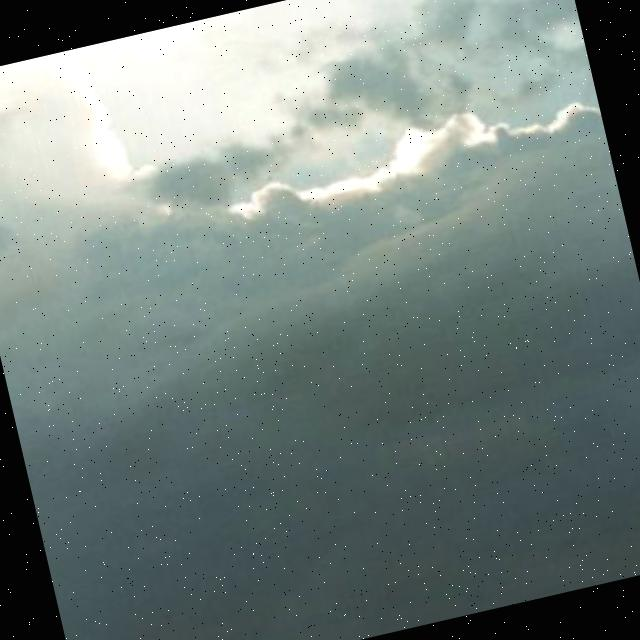St: (1, 1, 640, 500)
